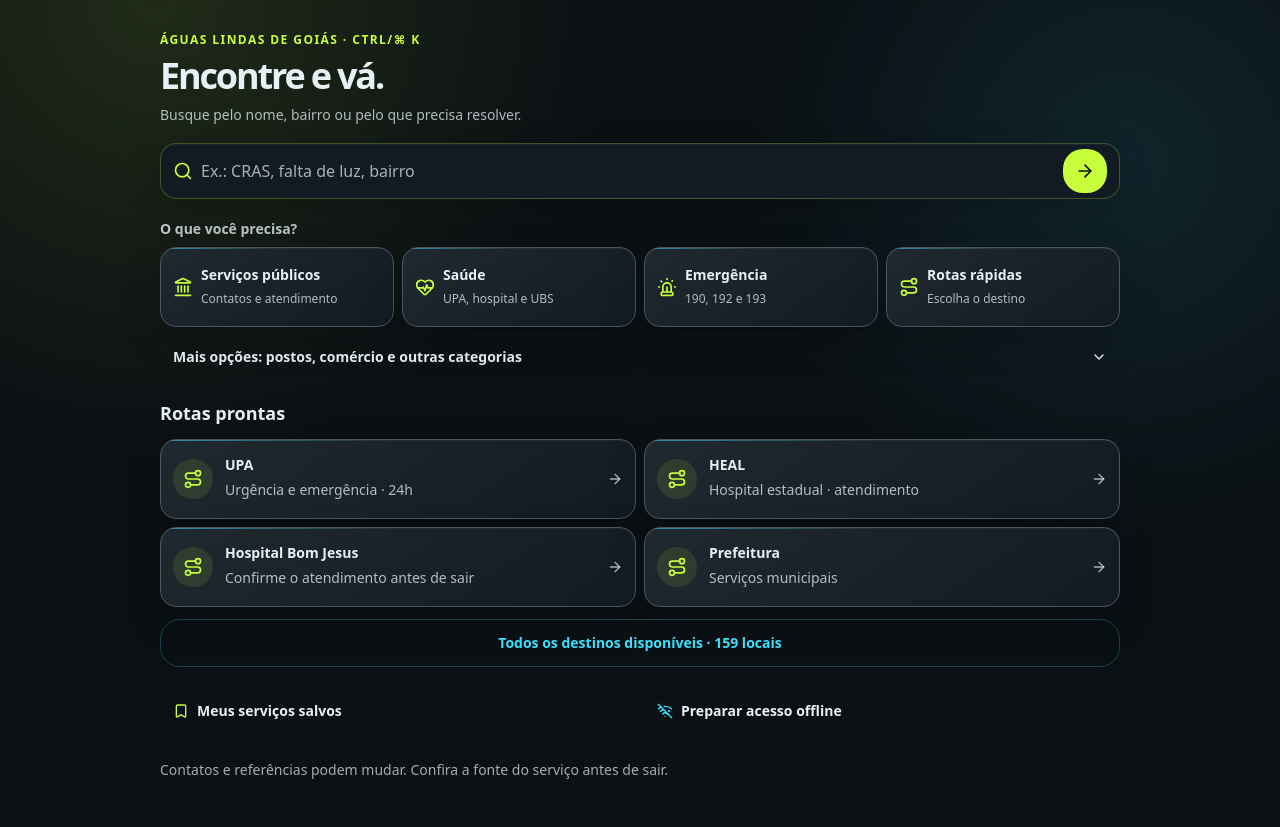
Test: mobile search organization › starts with four essential shortcuts and expands secondary categories
Expected: the button "Educação" is not shown
Click the button "Mais opções: postos, comércio e outras categorias": coordinates (347, 356) [160,335,1120,379]
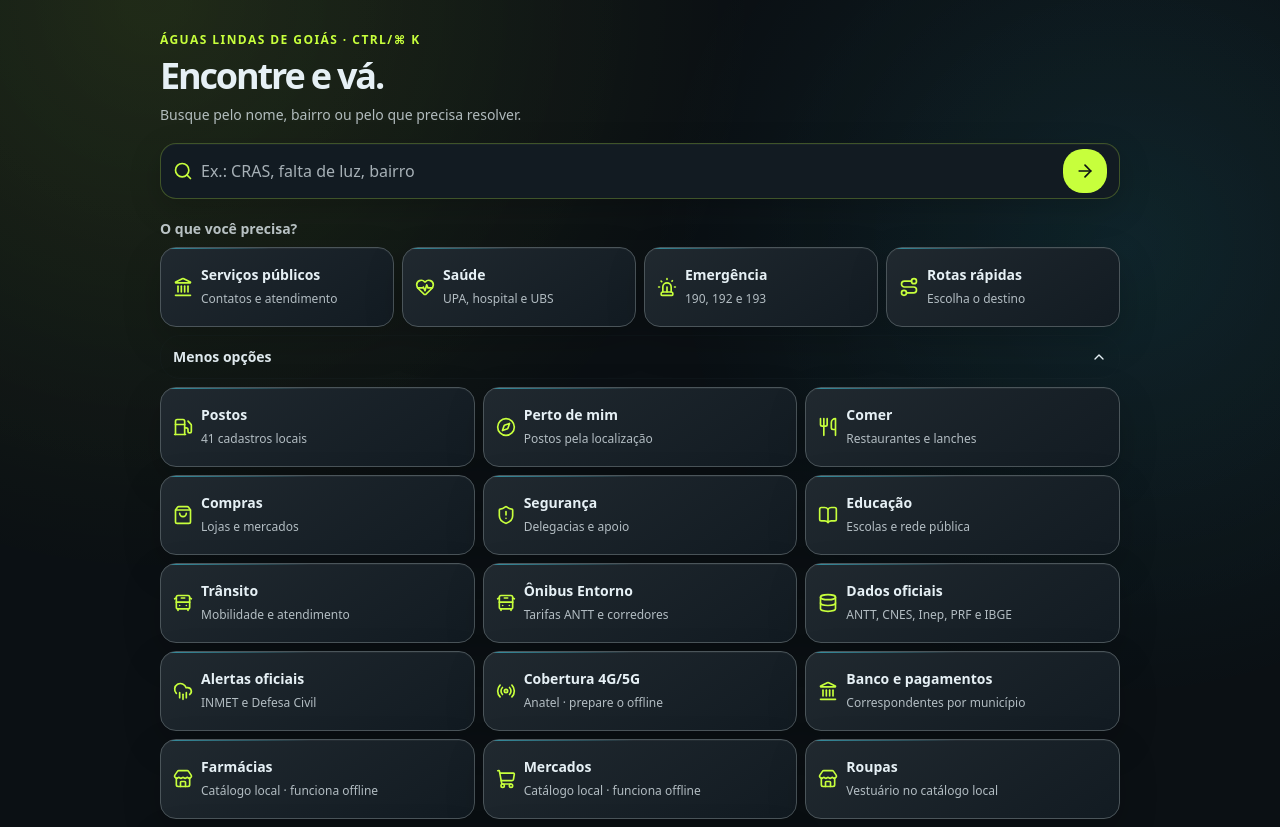
Expected: the button "Educação Escolas e rede pública" is shown, [805,475,1120,555]
Click the button "Menos opções": coordinates (222, 356) [160,335,1120,379]
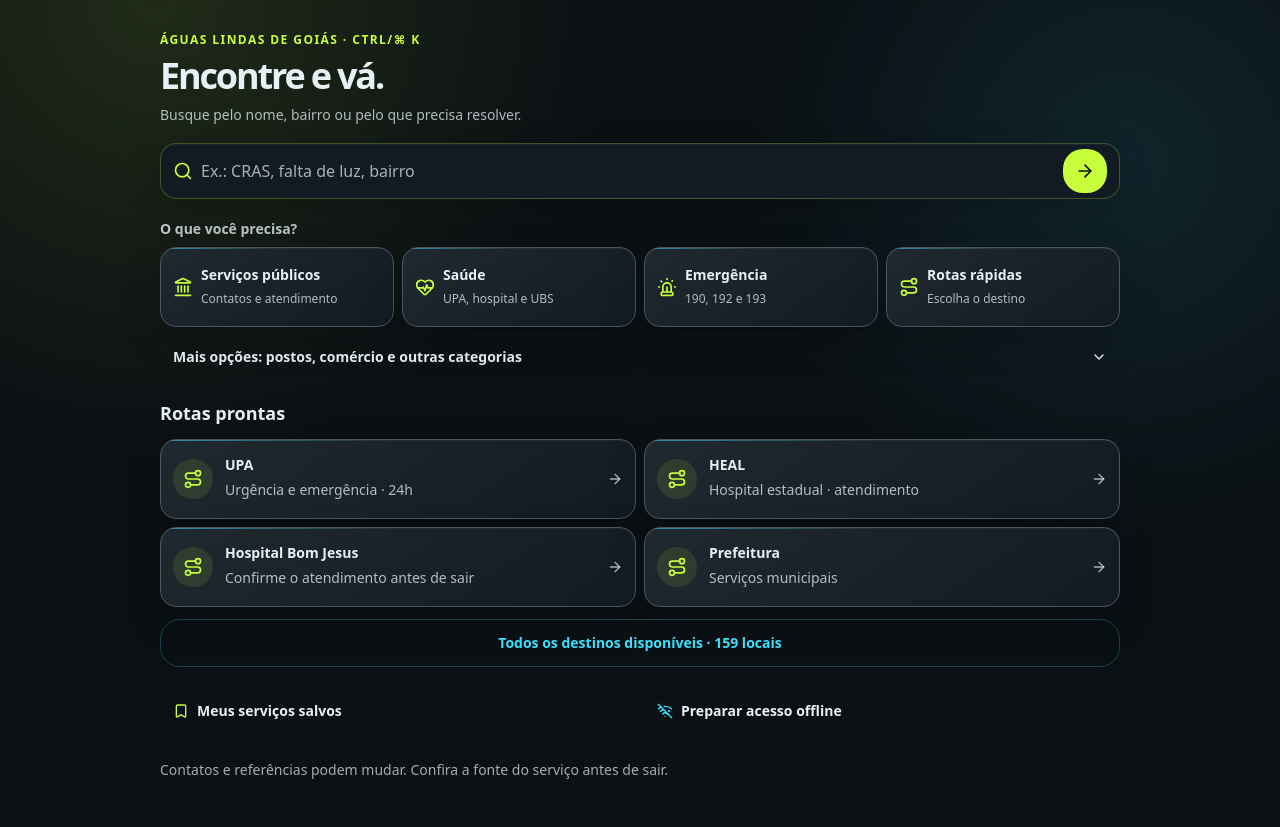
Expected: the button "Educação" is gone
